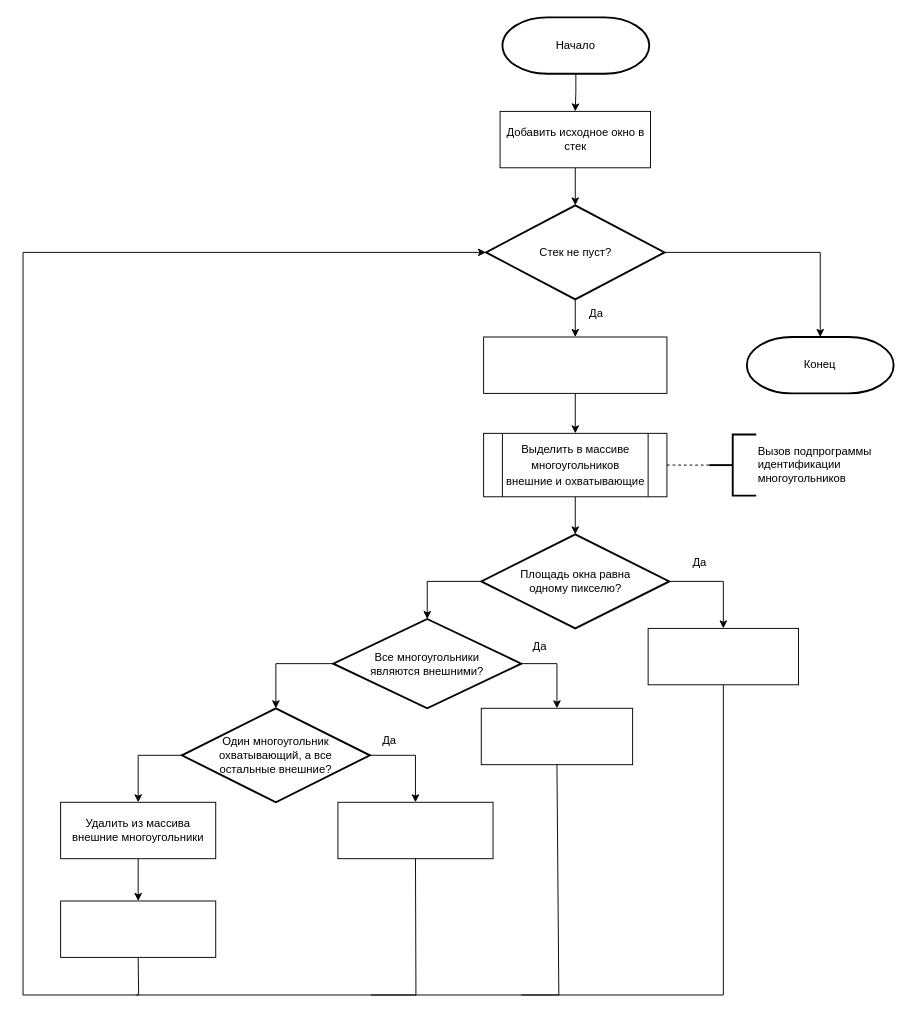
The diagram is 911 pixels wide and 1019 high, and some of its shapes have lost their labels. Each missing label, with the centre of its shape:
"Закрасить окно цветом ближайшего к наблюдателю охватывающего многоугольника" goes at (723,656).
"Закрасить окно цветом охватывающего многоугольника" goes at (415,830).
"Закрасить окно цветом фона" goes at (556,736).
"Извлечь окно из стека" goes at (575,364).
"Разбить окно на подокна и положить их в стек" goes at (138,928).
